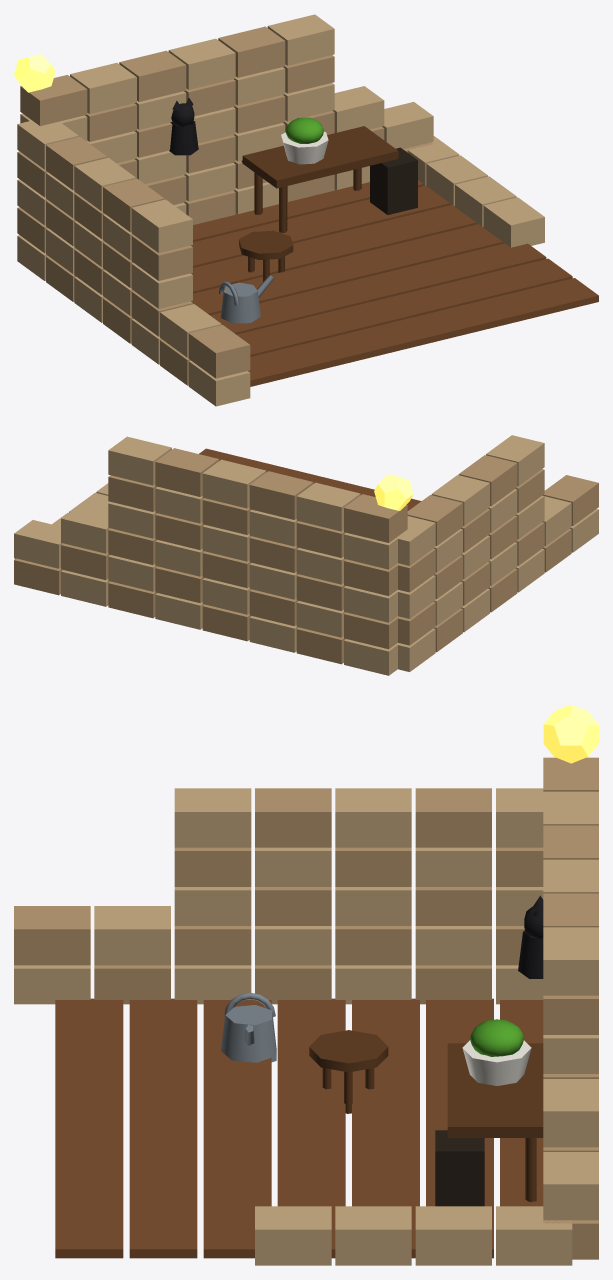
The model's file is garden_room_cutaway.glb.
3 views of the same model, one above another, from view 1: azimuth 30°, elevation 25°; view 2: azimuth 150°, elevation 25°; view 3: azimuth 270°, elevation 25° (orthographic). The views are drawn at different scales.
Visible parts, largest first — view 1: CutawayGardenRoom; view 2: CutawayGardenRoom; view 3: CutawayGardenRoom.
Part boxes in pixels (bbox=[...]): CutawayGardenRoom: bbox=[14, 14, 598, 406]; CutawayGardenRoom: bbox=[14, 435, 598, 675]; CutawayGardenRoom: bbox=[14, 704, 598, 1265].
Bounding box in the file's own units: 5.45 × 2.57 × 4.73.
